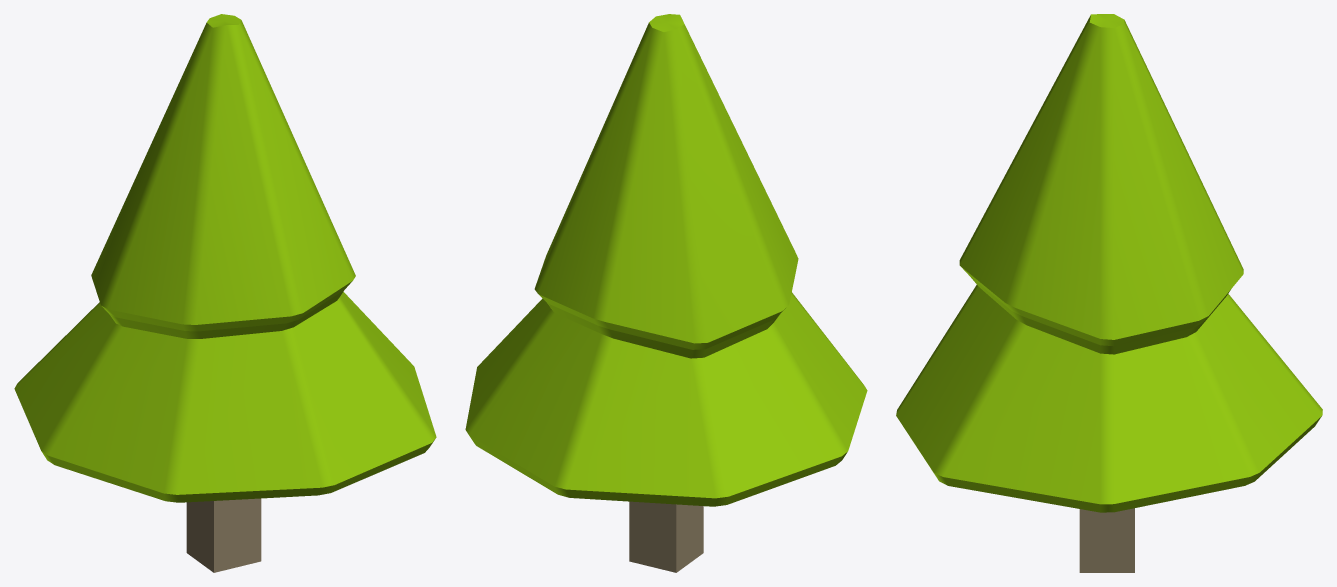
File: pine_skewed_6_bevel.fbx
3 views of the same model, side by side, from view 1: azimuth 30°, elevation 25°; view 2: azimuth 150°, elevation 25°; view 3: azimuth 270°, elevation 25° (orthographic).
Visible parts, largest first — view 1: pine_skewed_6_bevel; view 2: pine_skewed_6_bevel; view 3: pine_skewed_6_bevel.
Boxes of the visible parts, x1,y1,x2,y2 form: pine_skewed_6_bevel: [14, 14, 436, 572]; pine_skewed_6_bevel: [465, 14, 867, 572]; pine_skewed_6_bevel: [896, 14, 1322, 572].
Size of the model in its own units: 93.38 by 131 by 93.42.
